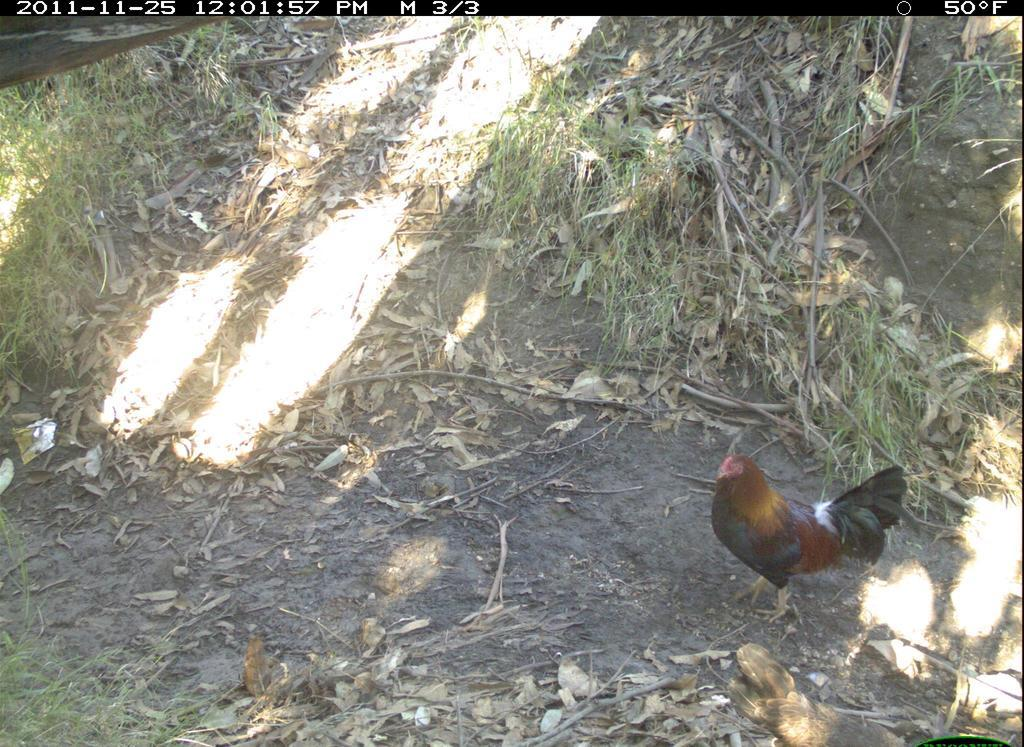bird: (702, 438, 918, 629)
